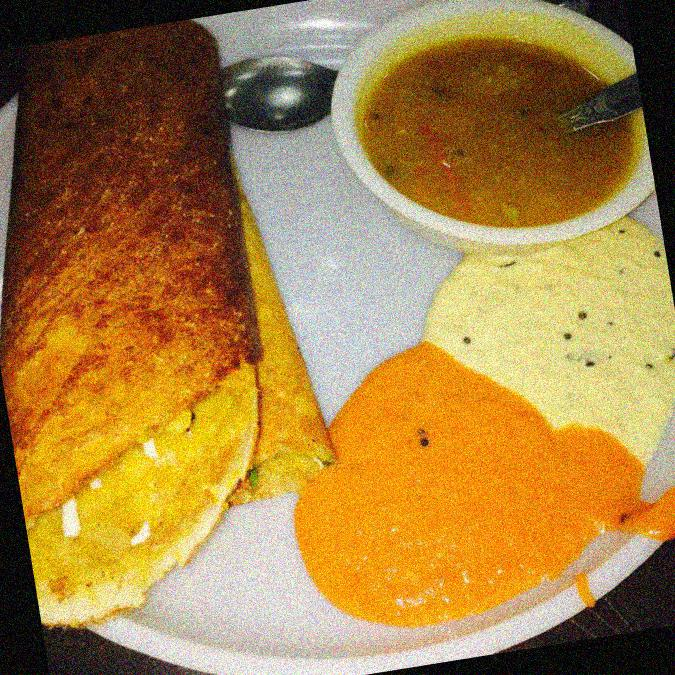dosa: (19, 2, 336, 632)
